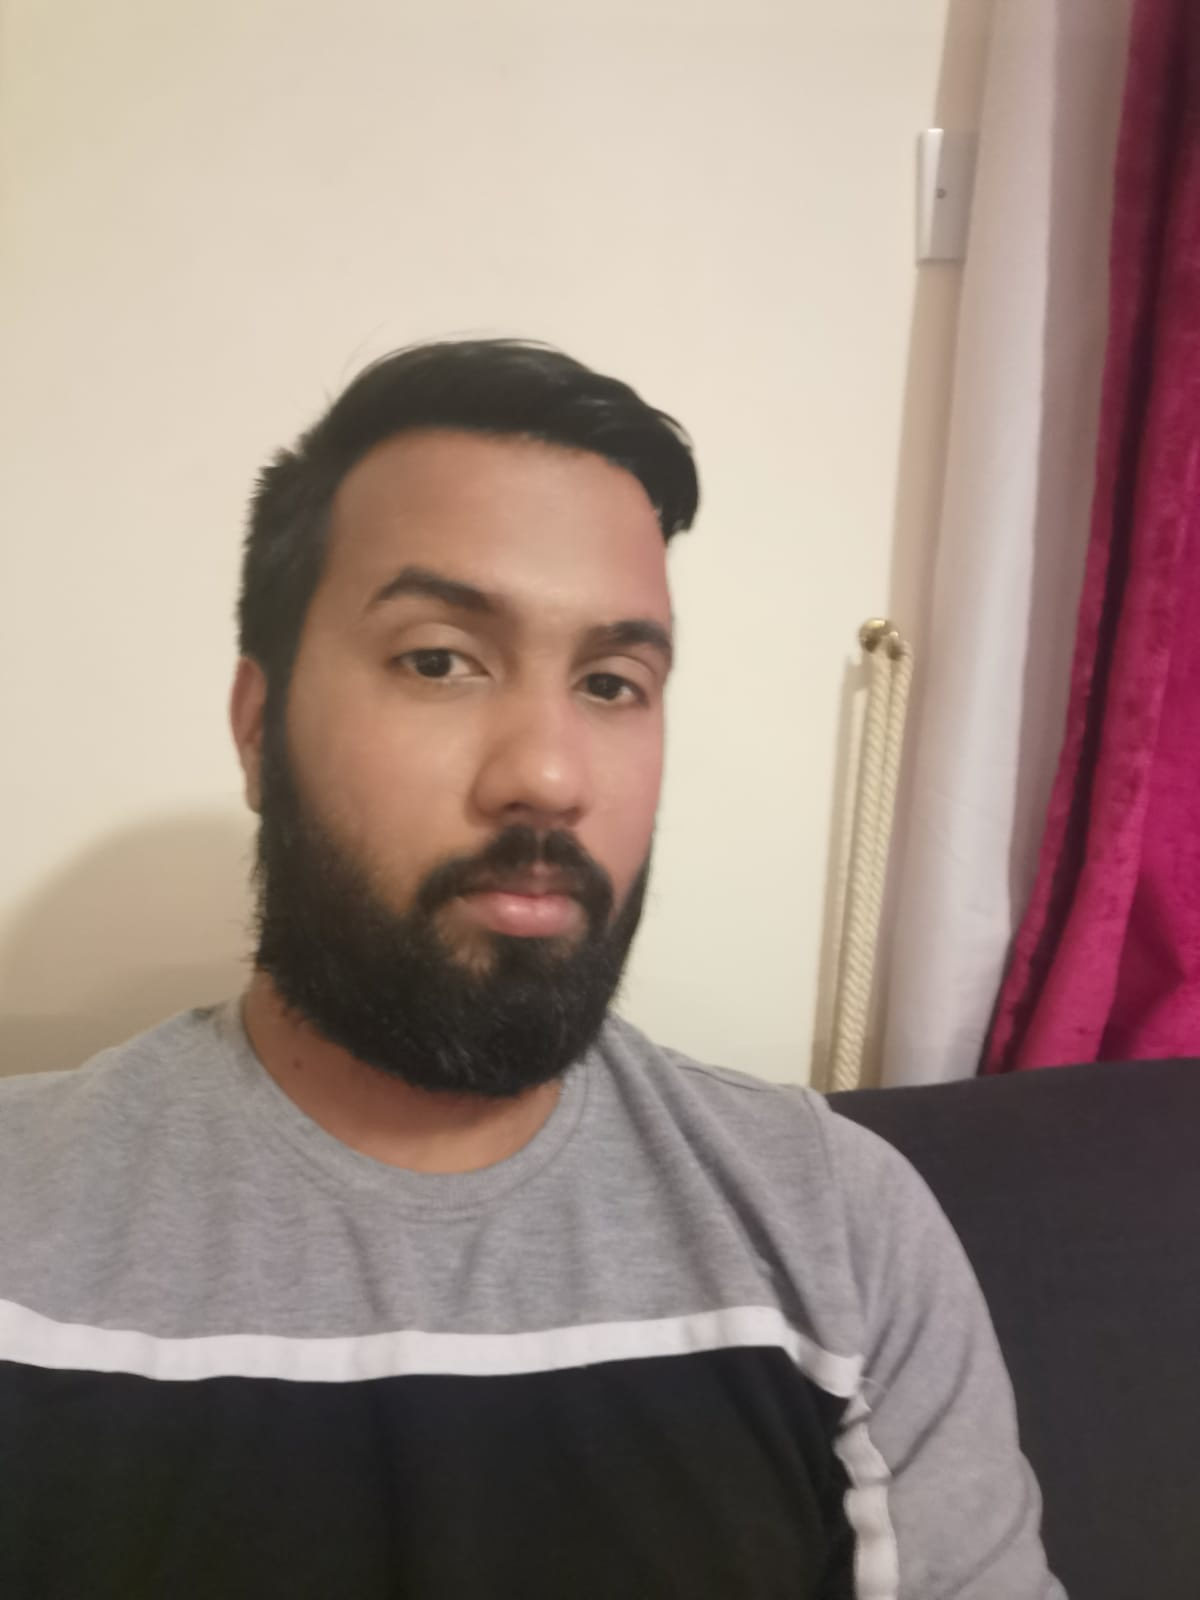Not Sleeping: (342, 593, 671, 727)
